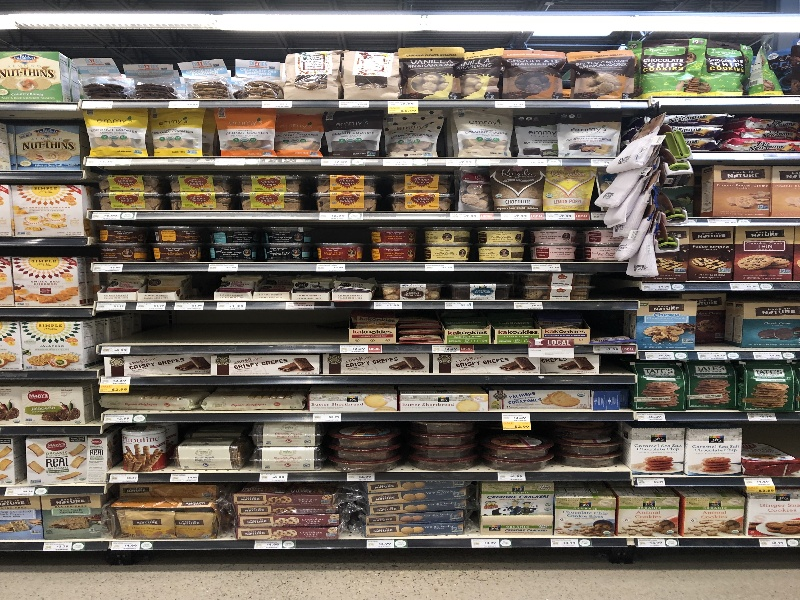void: (94, 308, 345, 343), (180, 270, 219, 301), (595, 270, 633, 299)
